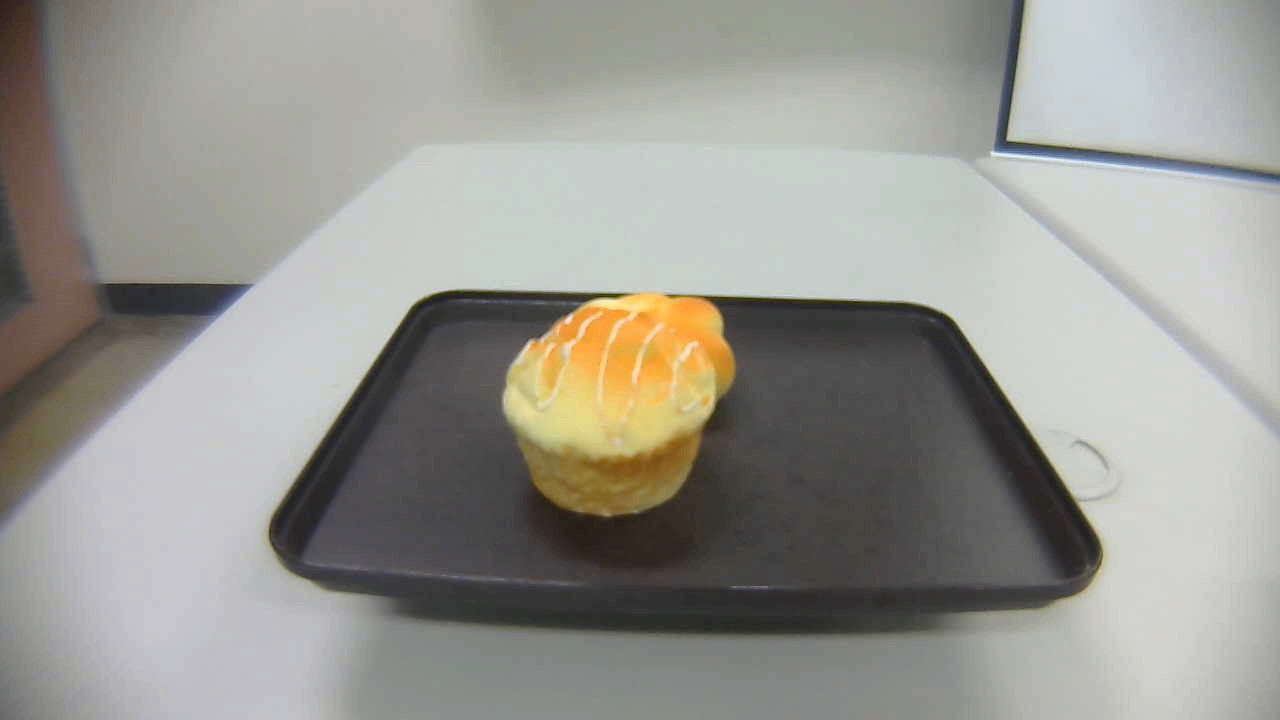cupcake: (501, 307, 715, 517)
twist bread: (582, 293, 737, 423)
